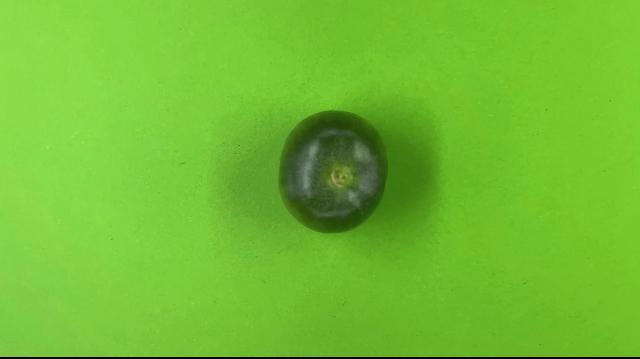Fruit Maturation: (276, 109, 389, 233)
